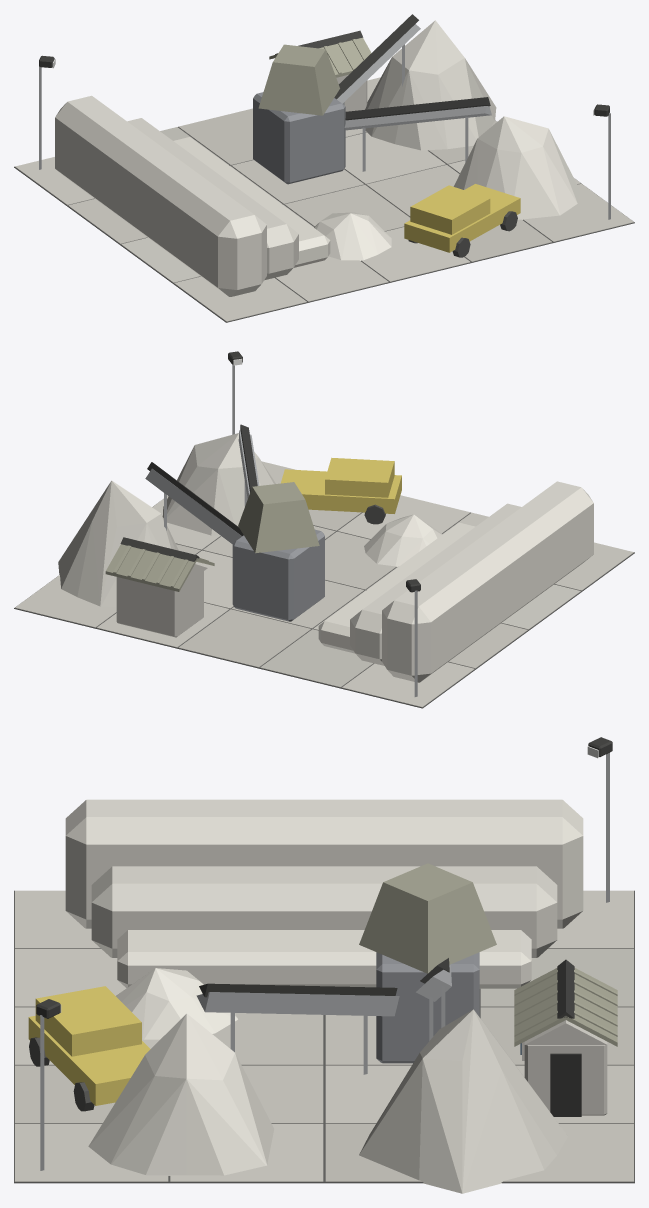
File: b_quarry.glb
The picture shows the model from 3 angles, top to bottom: view 1: azimuth 30°, elevation 25°; view 2: azimuth 150°, elevation 25°; view 3: azimuth 270°, elevation 25°; orthographic projection. The views are drawn at different scales.
Visible parts, largest first — view 1: hull; view 2: hull; view 3: hull.
Part boxes in pixels (x1,y1,x2,y2): hull: (14,14,634,322); hull: (14,351,634,708); hull: (14,737,634,1193).
Bounding box in the file's own units: 20.72 × 5.53 × 18.
